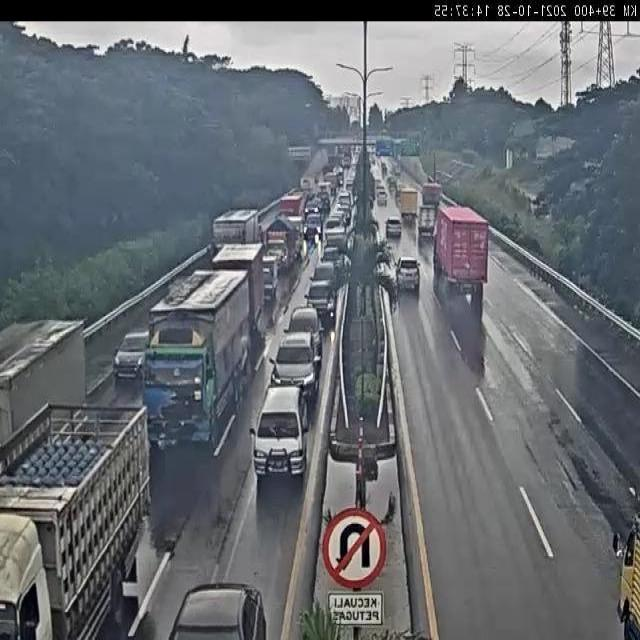Car: (168, 580, 270, 640), (268, 330, 324, 405), (284, 304, 324, 360), (112, 330, 150, 380), (304, 278, 339, 328), (395, 256, 420, 294), (312, 260, 339, 292), (301, 212, 325, 240), (386, 217, 402, 238), (304, 200, 321, 217), (376, 190, 388, 208), (376, 182, 386, 192)
Truck: (0, 400, 155, 640), (139, 264, 253, 450), (0, 318, 91, 440), (212, 243, 272, 355), (432, 203, 491, 289), (212, 209, 262, 249), (264, 213, 296, 273), (260, 252, 278, 304), (417, 203, 437, 240), (400, 188, 420, 218), (421, 181, 441, 209), (279, 191, 303, 213), (286, 214, 304, 243)
Van: (250, 385, 309, 480)
